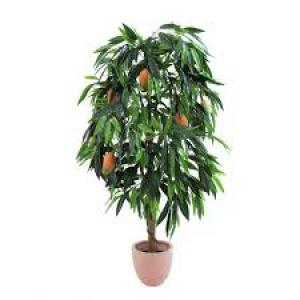Tree: (72, 19, 231, 285)
